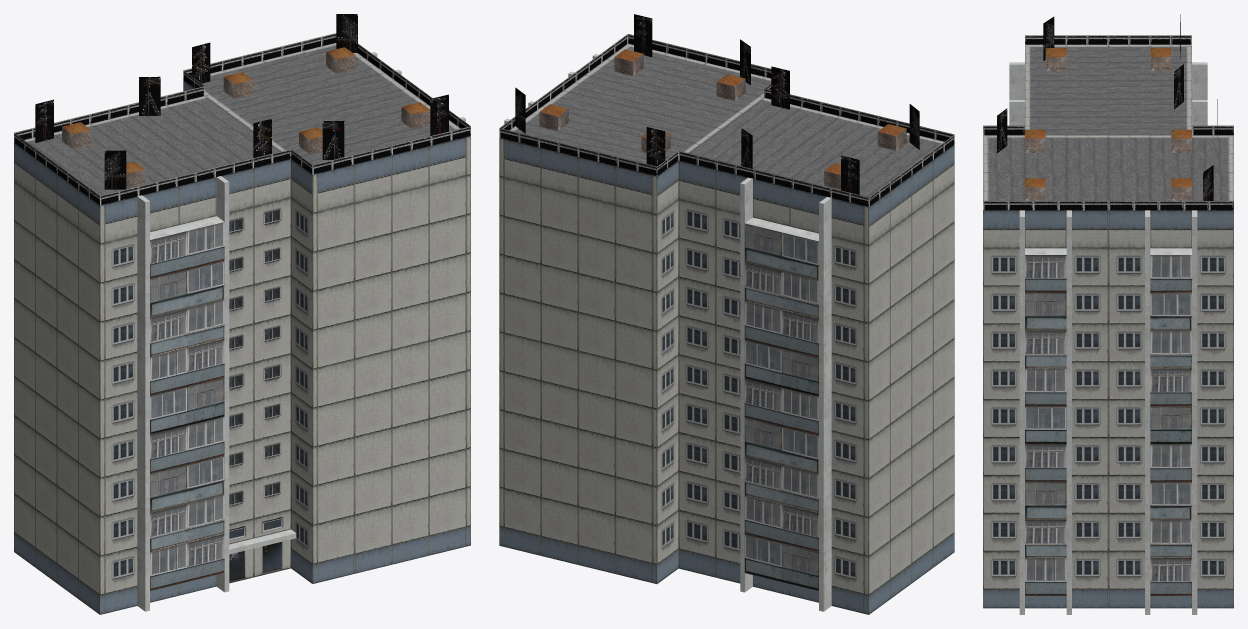
File: rus_build_9et_01b.fbx
The picture shows the model from 3 angles, left to right: view 1: azimuth 30°, elevation 25°; view 2: azimuth 150°, elevation 25°; view 3: azimuth 270°, elevation 25°; orthographic projection. The views are drawn at different scales.
Visible parts, largest first — view 1: Regroup13, rus_build_dec_01; view 2: Regroup13, rus_build_dec_01; view 3: Regroup13, rus_build_dec_01.
Part boxes in pixels (x1,y1,x2,y2): Regroup13: (14, 43, 470, 614); rus_build_dec_01: (14, 14, 470, 205); Regroup13: (499, 43, 954, 614); rus_build_dec_01: (499, 14, 954, 206); Regroup13: (983, 44, 1233, 614); rus_build_dec_01: (983, 14, 1233, 210).
Bounding box in the file's own units: 2730 × 3220 × 1680.
